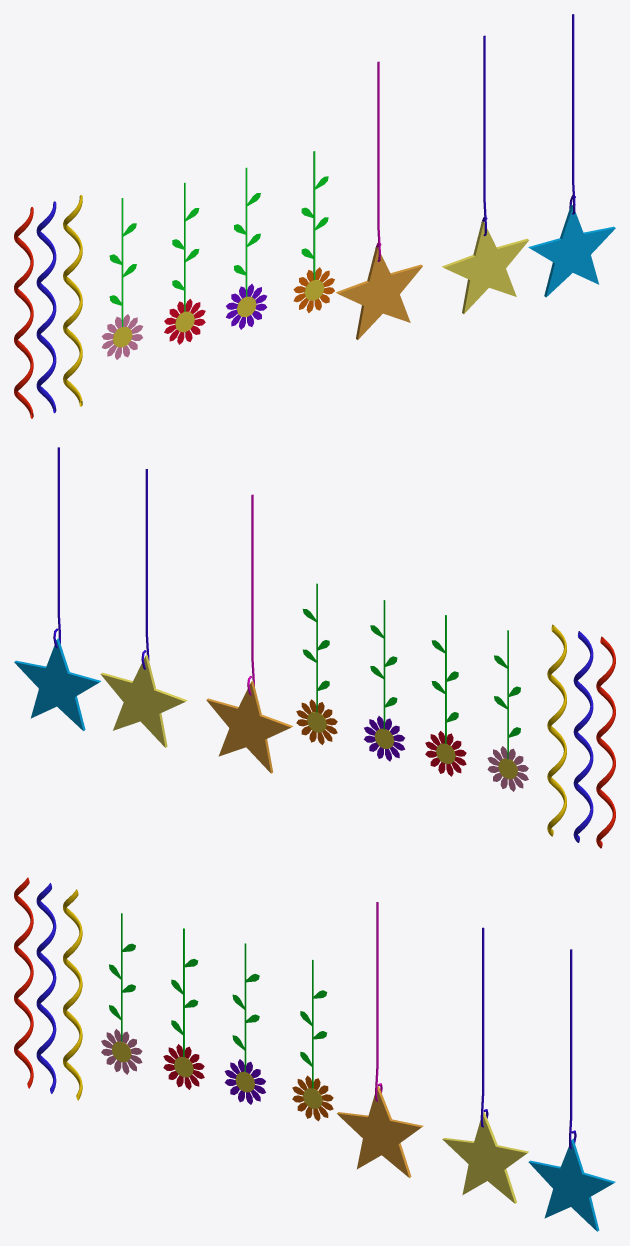
The model's file is tavansusleri.fbx.
The picture shows the model from 3 angles, top to bottom: view 1: azimuth 30°, elevation 25°; view 2: azimuth 150°, elevation 25°; view 3: azimuth 330°, elevation 25°; orthographic projection.
Parts seen in each view (by area): view 1: SUS_SARKAN_YILDIZ_M, SUS_SARKAN_YILDIZ_S, SUS_SARKAN_YILDIZ_T, SUS_SARKAN_ÇİÇEK_T, SUS_SARKAN_ÇİÇEK_P, SUS_SARKAN_ÇİÇEK_M, SUS_SARKAN_ÇİÇEK_K, SUS_SARKAN_M, SUS_SARKAN_S, SUS_SARKAN_K; view 2: SUS_SARKAN_YILDIZ_M, SUS_SARKAN_YILDIZ_S, SUS_SARKAN_YILDIZ_T, SUS_SARKAN_ÇİÇEK_M, SUS_SARKAN_ÇİÇEK_K, SUS_SARKAN_ÇİÇEK_T, SUS_SARKAN_ÇİÇEK_P, SUS_SARKAN_K, SUS_SARKAN_M, SUS_SARKAN_S; view 3: SUS_SARKAN_YILDIZ_M, SUS_SARKAN_YILDIZ_S, SUS_SARKAN_YILDIZ_T, SUS_SARKAN_ÇİÇEK_M, SUS_SARKAN_ÇİÇEK_T, SUS_SARKAN_ÇİÇEK_K, SUS_SARKAN_ÇİÇEK_P, SUS_SARKAN_M, SUS_SARKAN_K, SUS_SARKAN_S.
Boxes of the visible parts, x1=… form: SUS_SARKAN_YILDIZ_M: x1=528, y1=14, x2=615, y2=297; SUS_SARKAN_YILDIZ_S: x1=442, y1=35, x2=528, y2=313; SUS_SARKAN_YILDIZ_T: x1=336, y1=61, x2=422, y2=339; SUS_SARKAN_ÇİÇEK_T: x1=293, y1=151, x2=334, y2=312; SUS_SARKAN_ÇİÇEK_P: x1=101, y1=198, x2=143, y2=359; SUS_SARKAN_ÇİÇEK_M: x1=226, y1=167, x2=267, y2=329; SUS_SARKAN_ÇİÇEK_K: x1=164, y1=182, x2=205, y2=344; SUS_SARKAN_M: x1=36, y1=201, x2=56, y2=413; SUS_SARKAN_S: x1=63, y1=195, x2=82, y2=406; SUS_SARKAN_K: x1=14, y1=207, x2=33, y2=418; SUS_SARKAN_YILDIZ_M: x1=14, y1=447, x2=100, y2=730; SUS_SARKAN_YILDIZ_S: x1=100, y1=469, x2=187, y2=747; SUS_SARKAN_YILDIZ_T: x1=206, y1=494, x2=292, y2=773; SUS_SARKAN_ÇİÇEK_M: x1=364, y1=600, x2=405, y2=761; SUS_SARKAN_ÇİÇEK_K: x1=425, y1=615, x2=466, y2=776; SUS_SARKAN_ÇİÇEK_T: x1=296, y1=583, x2=337, y2=744; SUS_SARKAN_ÇİÇEK_P: x1=487, y1=630, x2=528, y2=791; SUS_SARKAN_K: x1=596, y1=636, x2=615, y2=848; SUS_SARKAN_M: x1=573, y1=631, x2=593, y2=842; SUS_SARKAN_S: x1=547, y1=624, x2=566, y2=836; SUS_SARKAN_YILDIZ_M: x1=528, y1=949, x2=615, y2=1231; SUS_SARKAN_YILDIZ_S: x1=442, y1=927, x2=528, y2=1203; SUS_SARKAN_YILDIZ_T: x1=337, y1=902, x2=423, y2=1177; SUS_SARKAN_ÇİÇEK_M: x1=224, y1=943, x2=265, y2=1104; SUS_SARKAN_ÇİÇEK_T: x1=292, y1=959, x2=333, y2=1121; SUS_SARKAN_ÇİÇEK_K: x1=163, y1=928, x2=204, y2=1089; SUS_SARKAN_ÇİÇEK_P: x1=101, y1=913, x2=142, y2=1074; SUS_SARKAN_M: x1=36, y1=883, x2=56, y2=1093; SUS_SARKAN_K: x1=14, y1=877, x2=33, y2=1088; SUS_SARKAN_S: x1=63, y1=889, x2=82, y2=1100.
Size of the model in its own units: 925 by 407 by 26.33.
